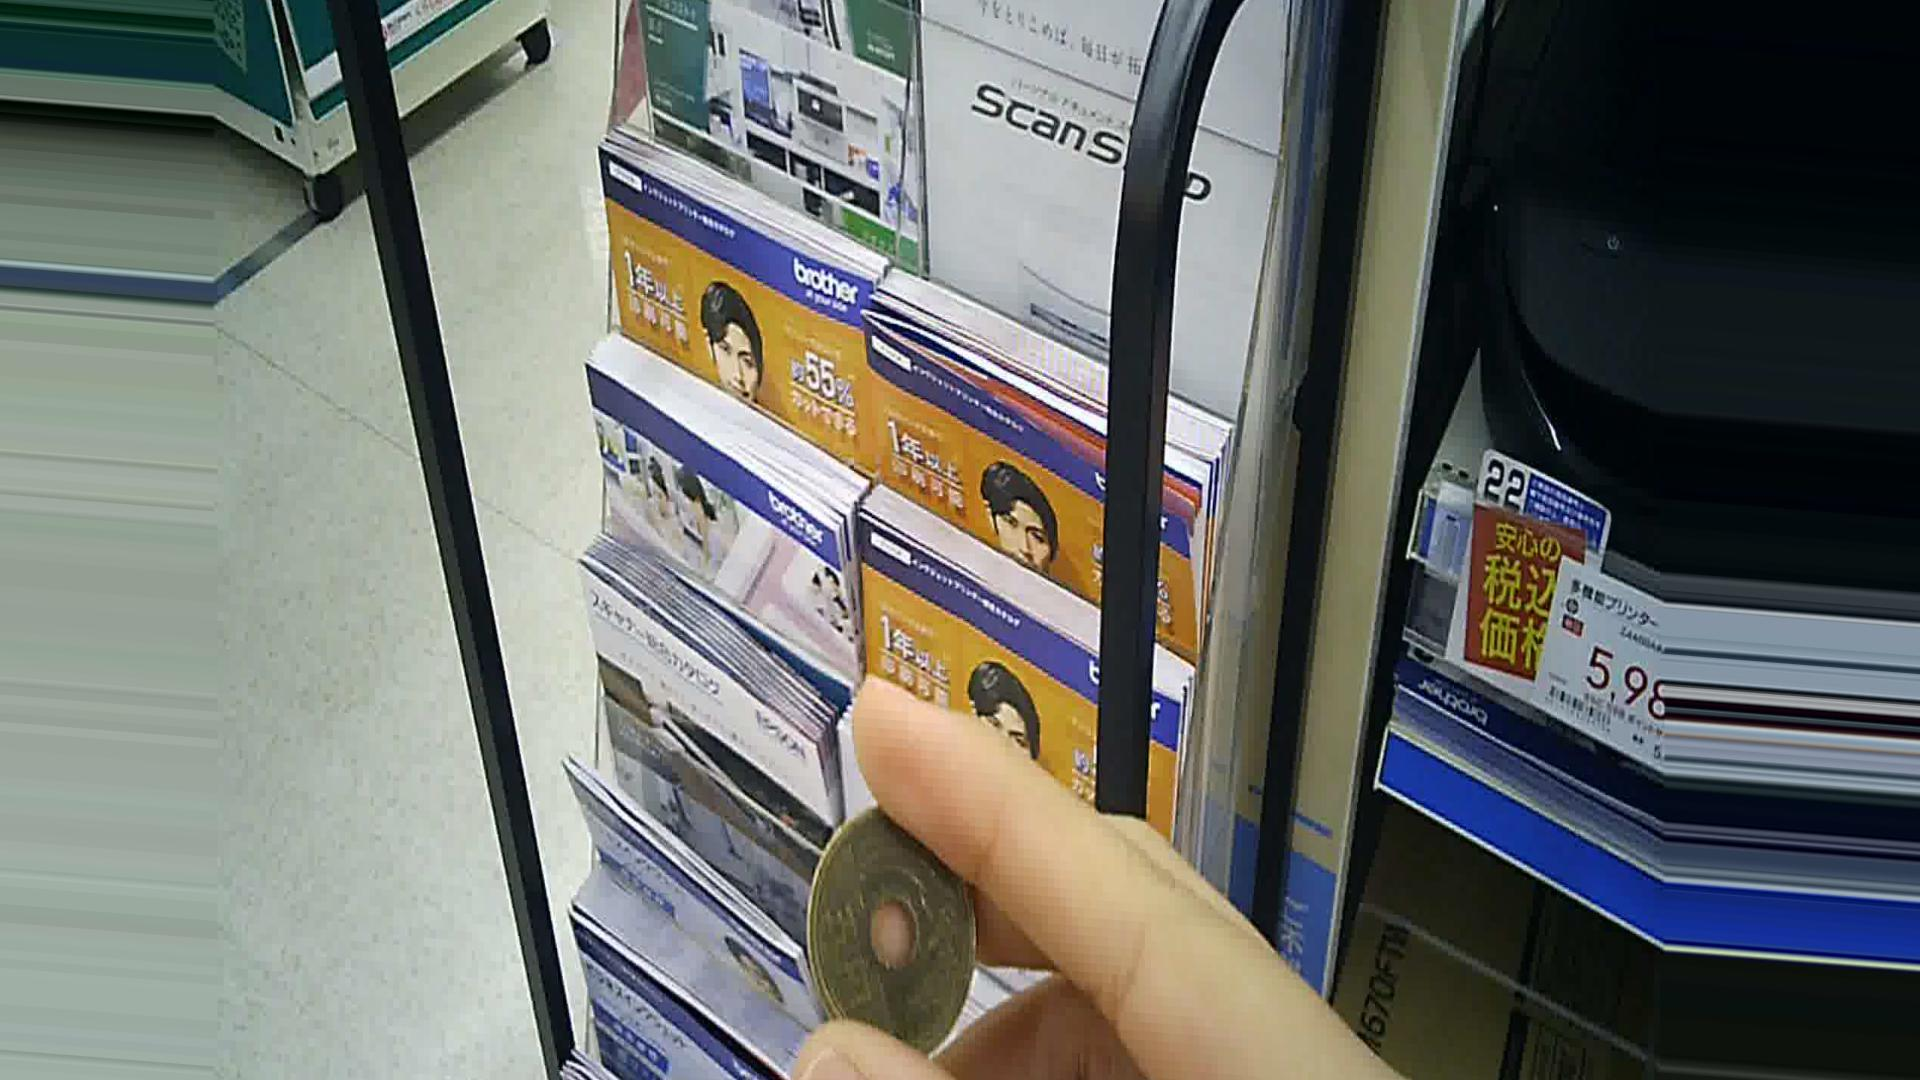5 Yen: (803, 807, 992, 1058)
